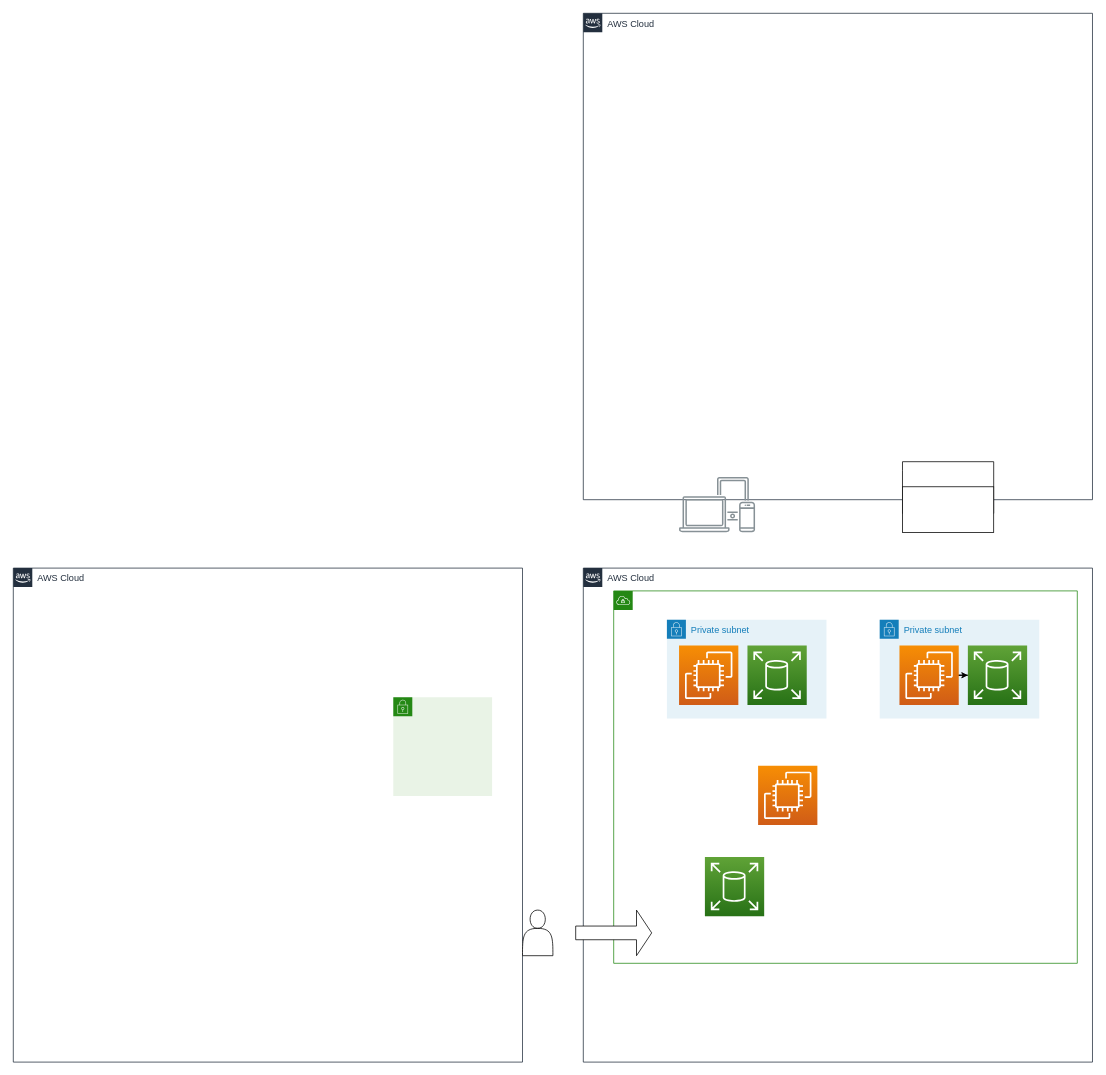
The diagram is 1106 pixels wide and 1075 high, and some of its shapes have lost their labels. The box of each missing label's shape, as (x1, y1, x2, y2) in pixels:
devices: (679, 477, 755, 532)
Public subnet: (393, 697, 492, 796)
VPC: (613, 590, 1077, 963)
